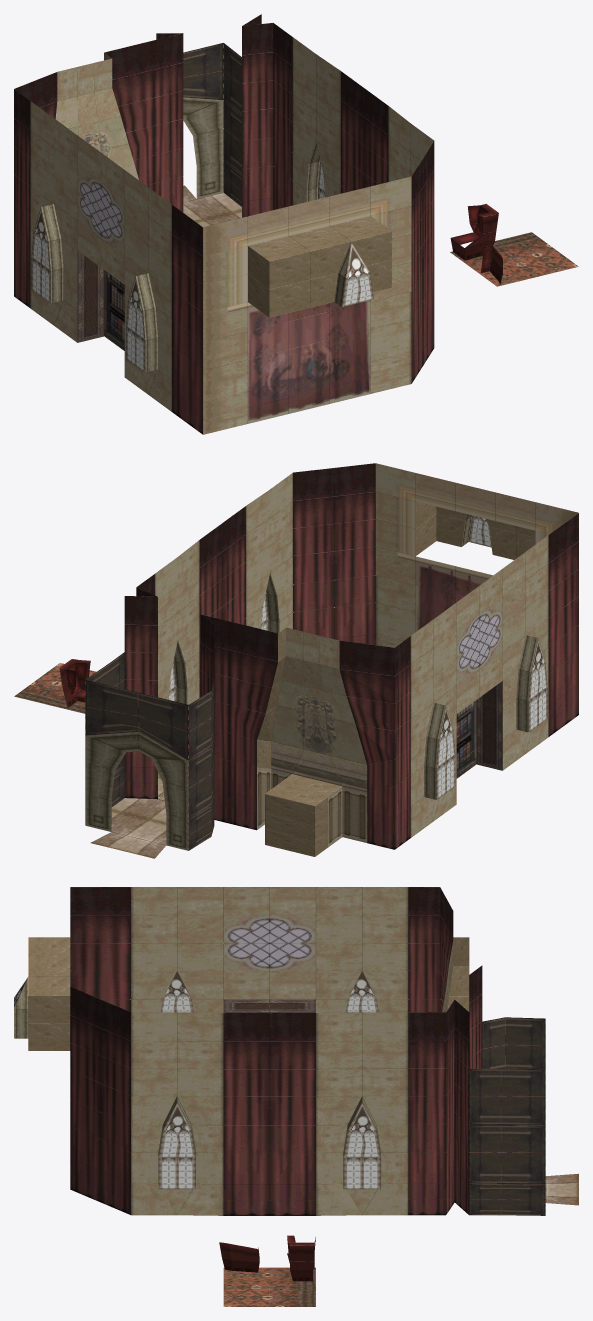
3 views of the same model, one above another, from view 1: azimuth 30°, elevation 25°; view 2: azimuth 150°, elevation 25°; view 3: azimuth 270°, elevation 25° (orthographic). The views are drawn at different scales.
Visible parts, largest first — view 1: T1L1M009_19, T1L1M009_20, T1L1M009_21, T1L1M009_6, T1L1M009_15, T1L1M009_5, T1L1M009_3, T1L1M009_10, T1L1M009_1, T1L1M009_9, T1L1M009_4, T1L1M009_23 (+6 smaller); view 2: T1L1M009_3, T1L1M009_2, T1L1M009_22, T1L1M009_21, T1L1M009_15, T1L1M009_0, T1L1M009_6, T1L1M009_4, T1L1M009_19, T1L1M009_1, T1L1M009_10, T1L1M009_5 (+7 smaller); view 3: T1L1M009_18, T1L1M009_9, T1L1M009_13, T1L1M009_5, T1L1M009_22, T1L1M009_10, T1L1M009_15, T1L1M009_6, T1L1M009_1, T1L1M009_19, T1L1M009_14, T1L1M009_2 (+6 smaller).
Boxes of the visible parts, x1,y1,x2,y2 form: T1L1M009_19: (172,205,247,434); T1L1M009_20: (248,196,350,423); T1L1M009_21: (329,176,411,403); T1L1M009_6: (30,101,77,342); T1L1M009_15: (124,170,171,411); T1L1M009_5: (219,14,292,221); T1L1M009_3: (55,40,153,180); T1L1M009_10: (77,136,124,350); T1L1M009_1: (183,43,241,216); T1L1M009_9: (292,37,340,205); T1L1M009_4: (133,33,225,227); T1L1M009_23: (269,241,373,317); T1L1M009_3: (229,621,346,856); T1L1M009_2: (323,636,410,849); T1L1M009_22: (293,463,375,644); T1L1M009_21: (375,463,455,647); T1L1M009_15: (476,535,548,770); T1L1M009_0: (112,680,214,858); T1L1M009_6: (410,602,456,837); T1L1M009_4: (135,614,271,830); T1L1M009_19: (535,502,578,736); T1L1M009_1: (85,663,138,850); T1L1M009_10: (438,569,502,778); T1L1M009_5: (109,574,188,815); T1L1M009_18: (131,1012,223,1215); T1L1M009_9: (316,1012,408,1215); T1L1M009_13: (223,1013,315,1215); T1L1M009_5: (408,999,500,1215); T1L1M009_22: (70,987,130,1214); T1L1M009_10: (223,887,315,1012); T1L1M009_15: (131,887,223,1012); T1L1M009_6: (316,887,408,1012); T1L1M009_1: (501,1068,578,1215); T1L1M009_19: (70,887,130,1011); T1L1M009_14: (219,1235,315,1306); T1L1M009_2: (408,887,453,1012).
Size of the model in its own units: 22.81 by 9.69 by 24.44.
